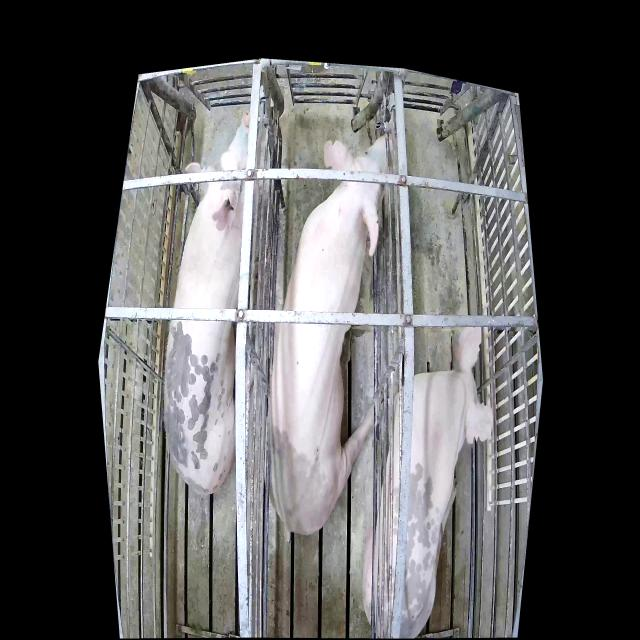pig: (269, 132, 394, 536), (363, 327, 492, 636), (165, 112, 261, 496)
